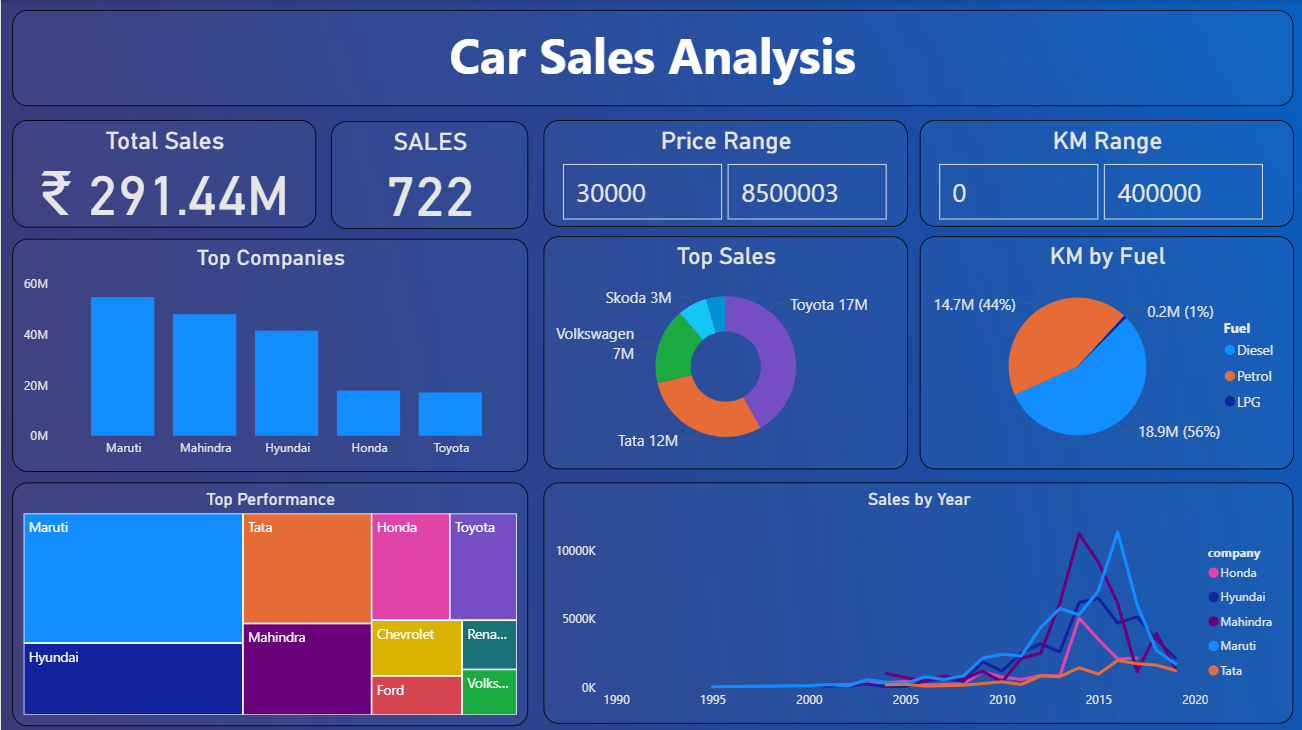

Layout of this report page (visuals, bound fields, positions):
{"tool":"powerbi","page":{"name":"Page 1","canvas":[1280,720],"ordinal":0},"visuals":[{"type":"textbox","box":[11.3,9.9,1257.7,94.7],"z":0},{"type":"columnChart","title":"Top Companies","fields":{"Category":["car_data.company"],"Y":["Sum(car_data.Price)"]},"box":[11,234.6,506.3,229.2],"z":1},{"type":"treemap","title":"Top Performance","fields":{"Group":["car_data.company"],"Values":["Sum(car_data.Kms_drive)"]},"box":[11,474,506,239],"z":2},{"type":"card","title":"Total Sales","fields":{"Values":["Sum(car_data.Price)"]},"box":[11.3,117.3,298.2,106],"z":5},{"type":"lineChart","title":"Sales by Year","fields":{"Series":["car_data.company"],"Category":["car_data.Year"],"Y":["Sum(car_data.Price)"]},"box":[532.5,473.6,736.2,236.8],"z":6},{"type":"pieChart","title":"KM by Fuel","fields":{"Category":["car_data.fuel_type"],"Y":["Sum(car_data.Kms_drive)"]},"box":[901.6,231.8,367.4,228.9],"z":7},{"type":"donutChart","title":"Top Sales","fields":{"Category":["car_data.company"],"Y":["Sum(car_data.Price)"]},"box":[532.7,231.8,357.5,228.9],"z":8},{"type":"card","title":"SALES","fields":{"Values":["CountNonNull(car_data.Price)"]},"box":[323.6,118.7,193.6,106],"z":10},{"type":"slicer","title":"Price Range","fields":{"Values":["car_data.Price"]},"box":[532.7,117.3,357.5,104.6],"z":11},{"type":"slicer","title":"KM Range","fields":{"Values":["car_data.Kms_drive"]},"box":[901.6,117.3,367.4,104.6],"z":12}]}

Visuals, with their boxes in screenshot pixels (x1, y1, x2, y2), scaled from the page's 1280x720 canvas onto the 1302x730 screenshot:
textbox: <region>11, 10, 1291, 106</region>
"Top Companies" columnChart: <region>11, 238, 526, 470</region>
"Top Performance" treemap: <region>11, 481, 526, 723</region>
"Total Sales" card: <region>11, 119, 315, 226</region>
"Sales by Year" lineChart: <region>542, 480, 1291, 720</region>
"KM by Fuel" pieChart: <region>917, 235, 1291, 467</region>
"Top Sales" donutChart: <region>542, 235, 906, 467</region>
"SALES" card: <region>329, 120, 526, 228</region>
"Price Range" slicer: <region>542, 119, 906, 225</region>
"KM Range" slicer: <region>917, 119, 1291, 225</region>
